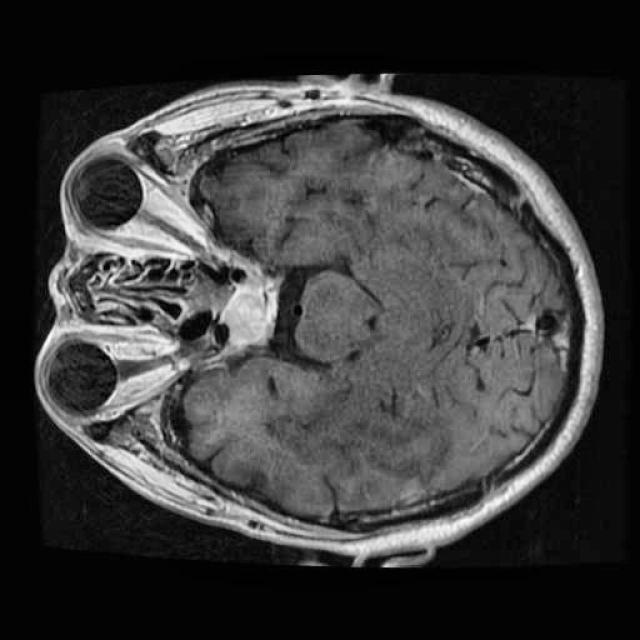Tumor: (216, 270, 295, 361)
